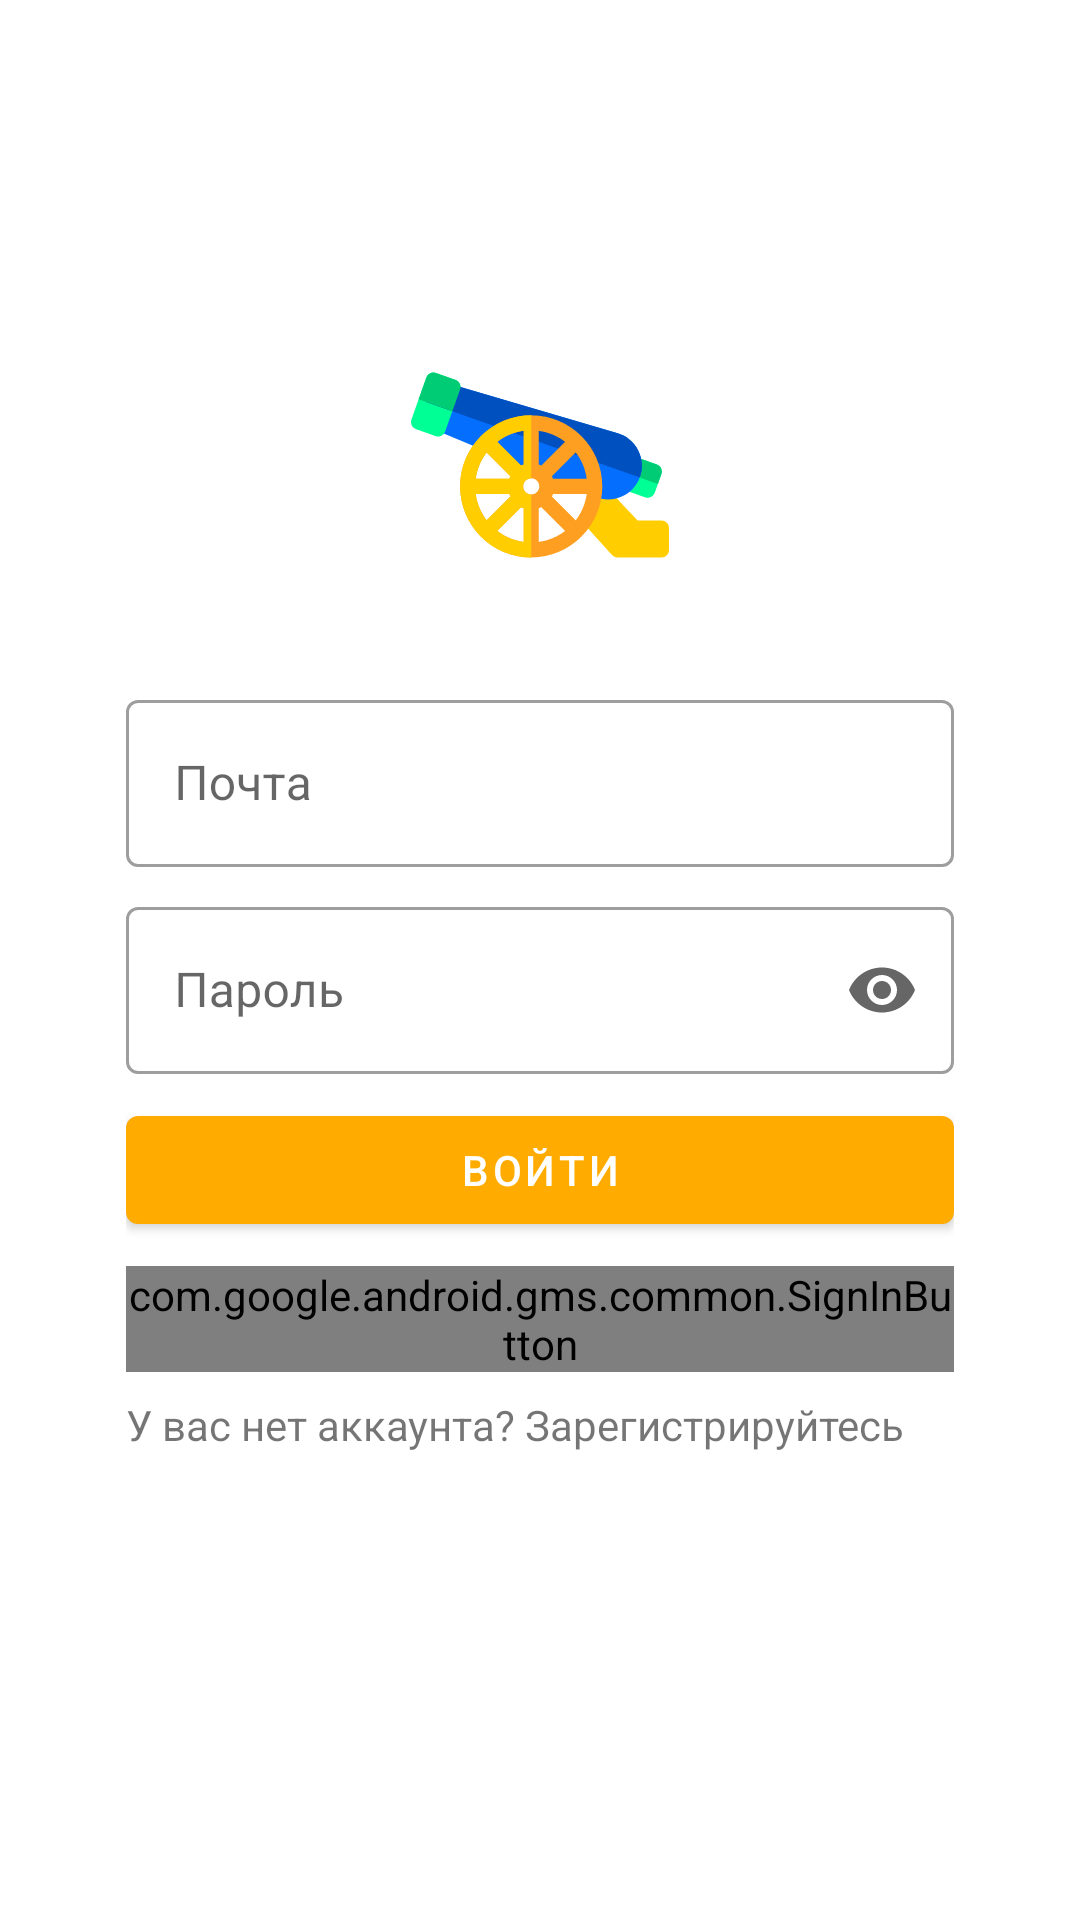

Where to tap for icons on this 1080*1920 app screen, as (x=x, y=y):
cannon: (x=540, y=465)
